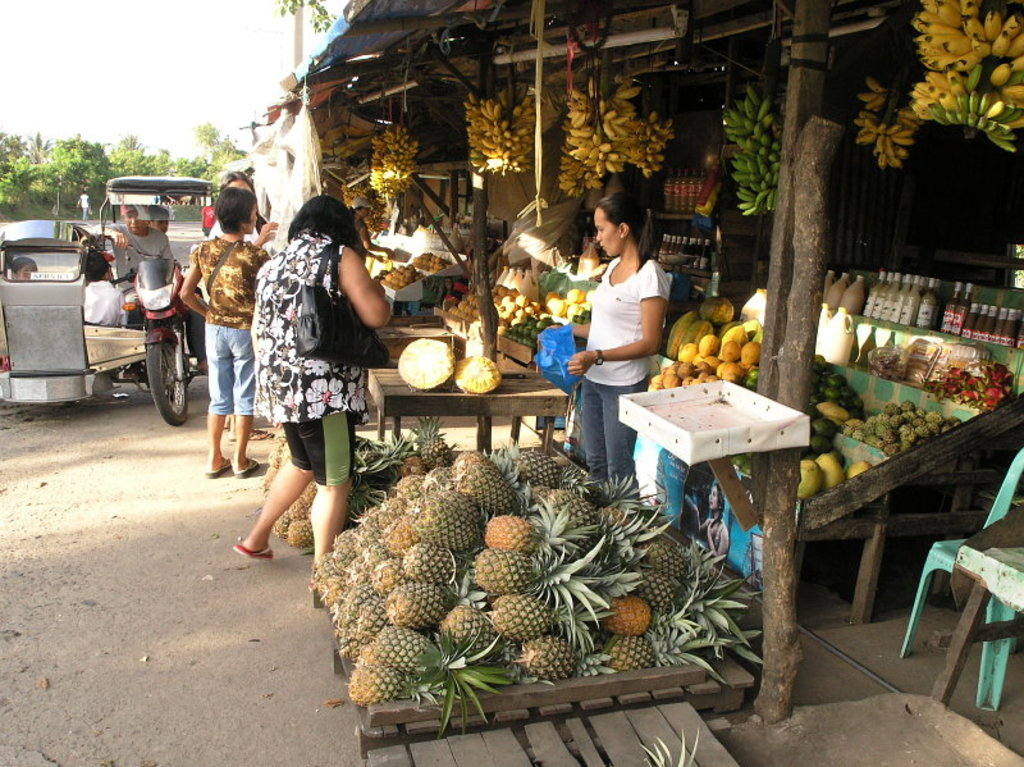Tree: (39, 122, 115, 199), (270, 0, 343, 74), (107, 121, 195, 175), (0, 117, 48, 204), (162, 145, 238, 198), (190, 107, 243, 161)
